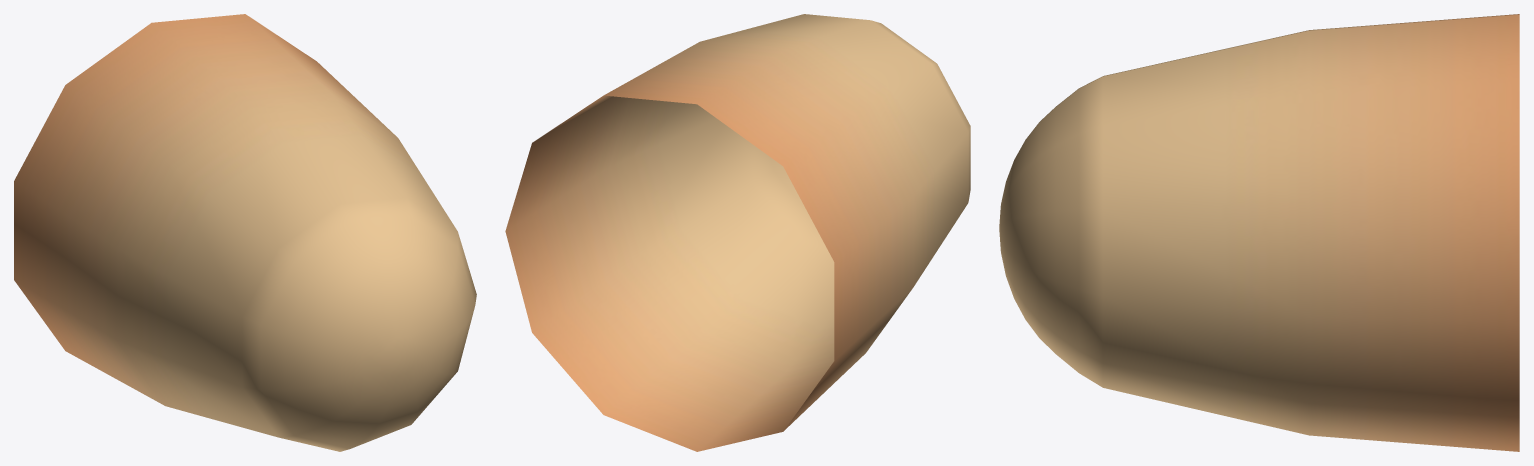
The model's file is foxtail6.obj.
3 renders of one model, left to right at view 1: azimuth 30°, elevation 25°; view 2: azimuth 150°, elevation 25°; view 3: azimuth 270°, elevation 25°, orthographic. The views are drawn at different scales.
Parts seen in each view (by area): view 1: tail6; view 2: tail6; view 3: tail6.
Boxes of the visible parts, x1,y1,x2,y2 form: tail6: (14, 14, 476, 451); tail6: (505, 14, 970, 451); tail6: (999, 14, 1519, 451).
Bounding box in the file's own units: 0.1697 × 0.1714 × 0.2019.
Materials: 1 (1 with a texture image).
